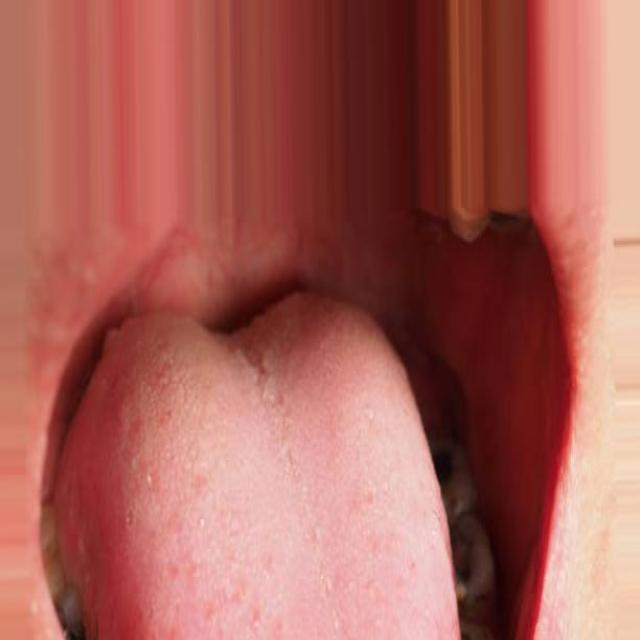caries: (443, 516, 497, 608), (426, 434, 476, 520), (50, 586, 90, 640)
